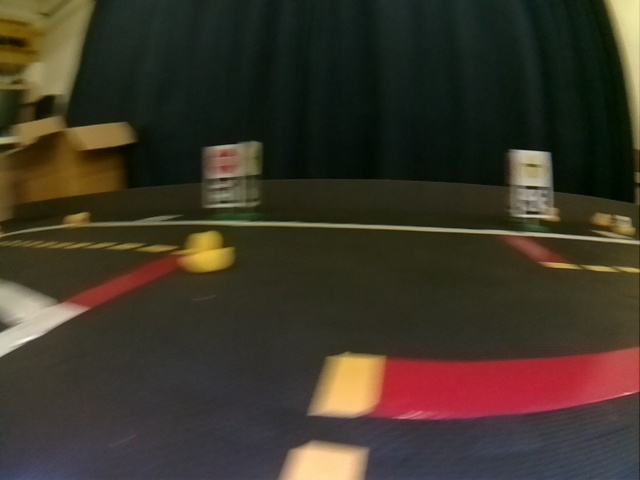Duckie: (182, 231, 233, 272), (66, 214, 89, 226)
Intersection sign: (510, 150, 552, 185)
QR code: (510, 186, 554, 220), (209, 179, 244, 206)
Stop sign: (207, 146, 237, 177)
